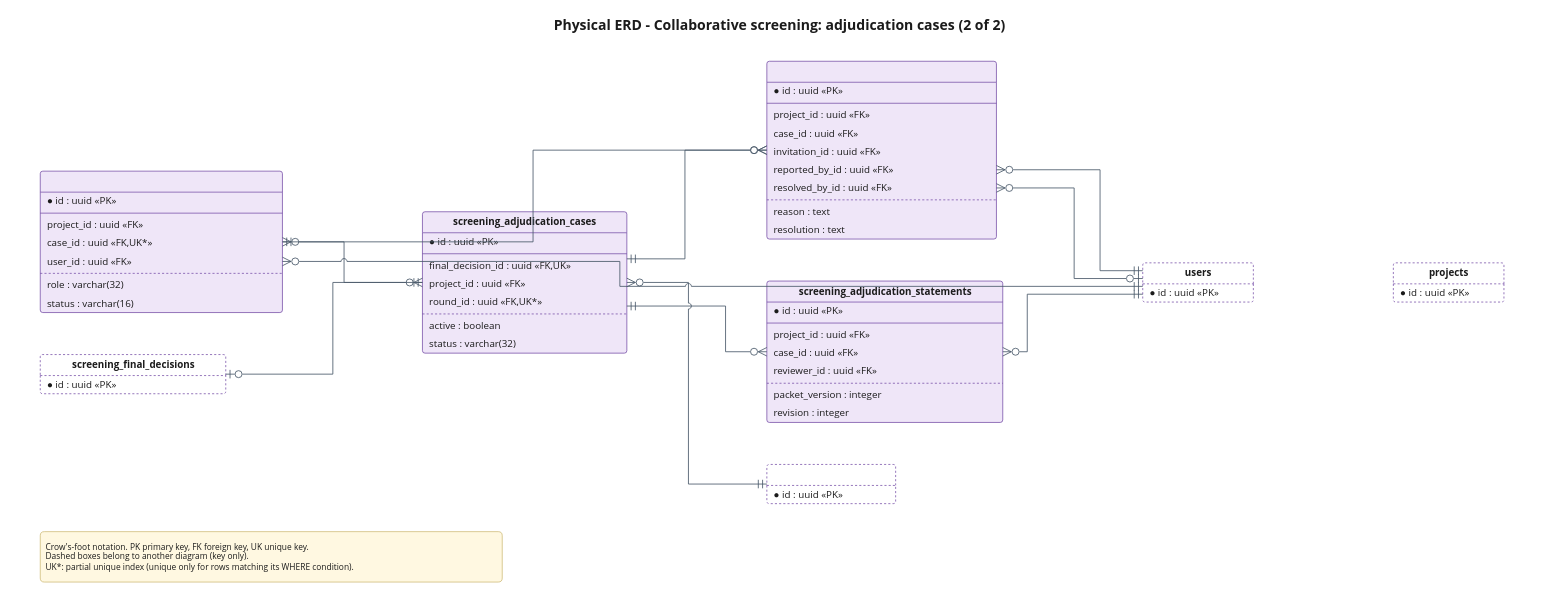
This 1558x594 diagram has some shape labels left out. The shapes that lost their labels are listed below. From the top down, each one's box as (x1, y1, x2, y2) in pixels, then its label:
(766, 61, 996, 239): screening_adjudication_conflicts
(40, 170, 282, 313): screening_adjudication_invitations
(766, 464, 896, 504): screening_rounds
